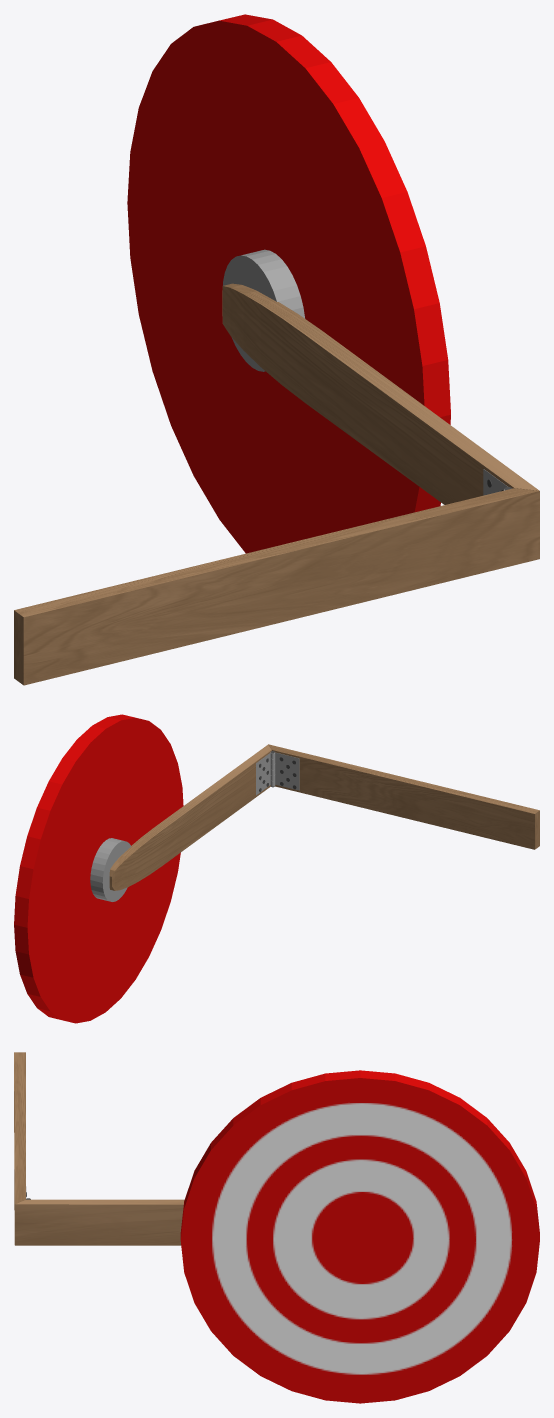
File: Target_Unhit.fbx
The picture shows the model from 3 angles, top to bottom: view 1: azimuth 30°, elevation 25°; view 2: azimuth 150°, elevation 25°; view 3: azimuth 270°, elevation 25°; orthographic projection. The views are drawn at different scales.
Visible parts, largest first — view 1: Target + Arm, Base; view 2: Target + Arm, Base; view 3: Target + Arm, Base.
Boxes of the visible parts, x1,y1,x2,y2 form: Target + Arm: (127,14,539,553); Base: (14,488,539,685); Target + Arm: (14,714,275,1023); Base: (268,744,539,849); Target + Arm: (15,1070,539,1403); Base: (14,1052,26,1244).
Size of the model in its own units: 219 by 200 by 293.
